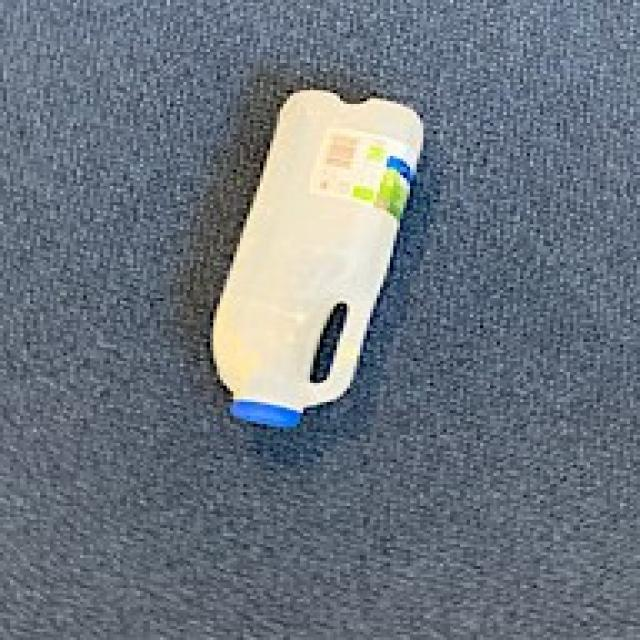HDPE Plastic: (209, 86, 428, 430)
